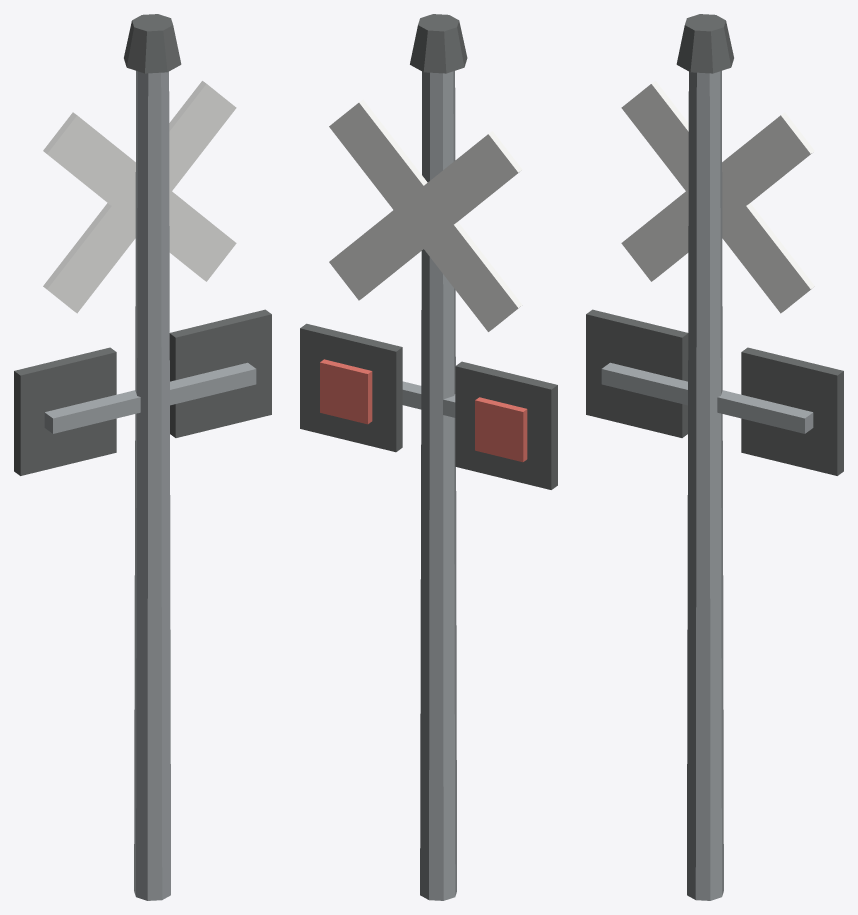
The model's file is crossing-lights.glb.
The picture shows the model from 3 angles, left to right: view 1: azimuth 30°, elevation 25°; view 2: azimuth 150°, elevation 25°; view 3: azimuth 330°, elevation 25°; orthographic projection.
Parts seen in each view (by area): view 1: crossing-lights; view 2: crossing-lights; view 3: crossing-lights.
Boxes of the visible parts, bbox=[...] form: crossing-lights: bbox=[14, 14, 271, 900]; crossing-lights: bbox=[300, 14, 557, 900]; crossing-lights: bbox=[586, 14, 843, 900].
Size of the model in its own units: 0.3022 by 1 by 0.0667.
